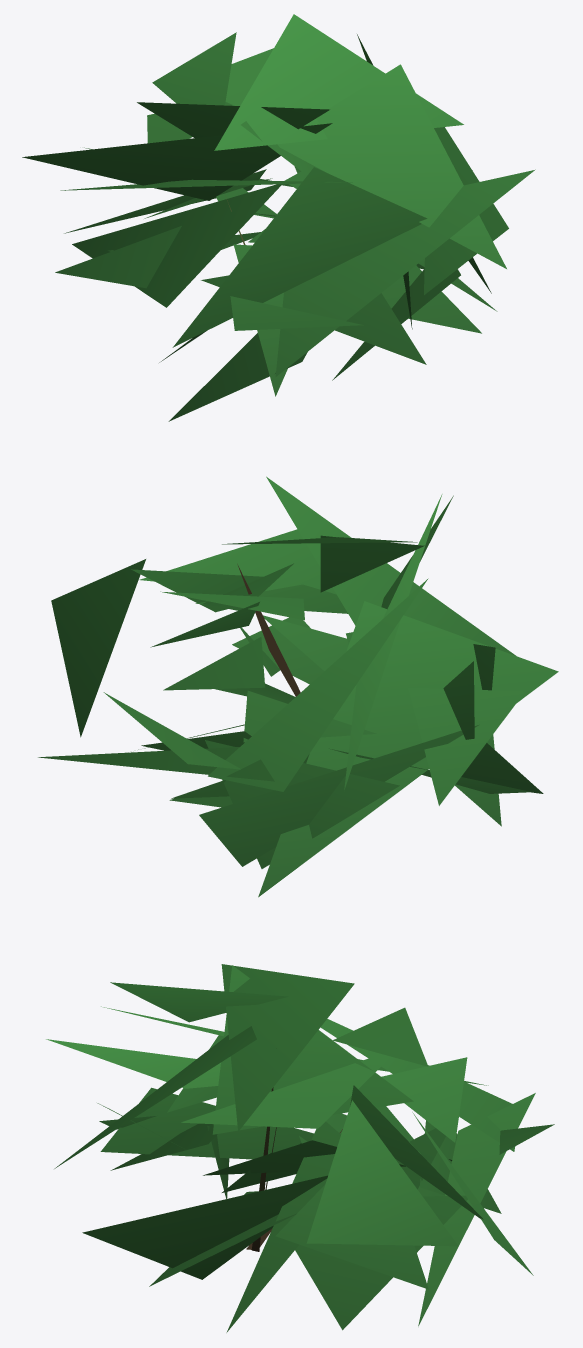
Rendered from bush3.glb.
3 views of the same model, one above another, from view 1: azimuth 30°, elevation 25°; view 2: azimuth 150°, elevation 25°; view 3: azimuth 270°, elevation 25° (orthographic).
Parts seen in each view (by area): view 1: Bush.002; view 2: Bush.002; view 3: Bush.002.
Boxes of the visible parts, box(x1,y1,x2,y2) form: Bush.002: box(22, 14, 535, 421); Bush.002: box(38, 476, 558, 897); Bush.002: box(46, 964, 554, 1332).
Bounding box in the file's own units: 2.94 × 1.89 × 3.05.
